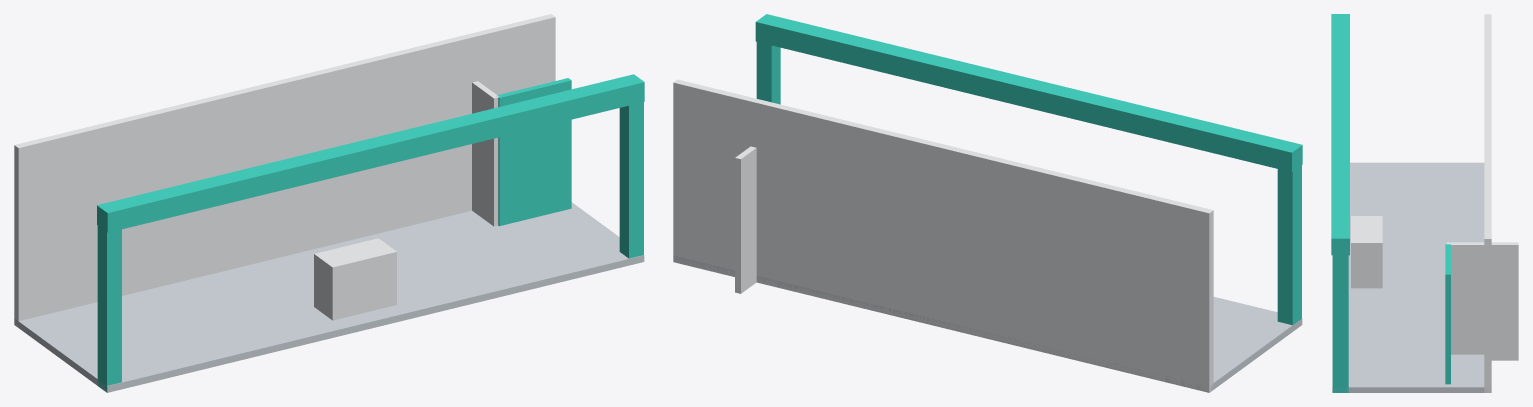
3 renders of one model, left to right at view 1: azimuth 30°, elevation 25°; view 2: azimuth 150°, elevation 25°; view 3: azimuth 270°, elevation 25°, orthographic. The views are drawn at different scales.
Visible parts, largest first — view 1: Exhibition Booth Concept; view 2: Exhibition Booth Concept; view 3: Exhibition Booth Concept.
Boxes of the visible parts, x1=… form: Exhibition Booth Concept: x1=14, y1=14, x2=644, y2=392; Exhibition Booth Concept: x1=673, y1=14, x2=1302, y2=392; Exhibition Booth Concept: x1=1331, y1=14, x2=1518, y2=392.
Size of the model in its own units: 10 by 3.2 by 3.52.
